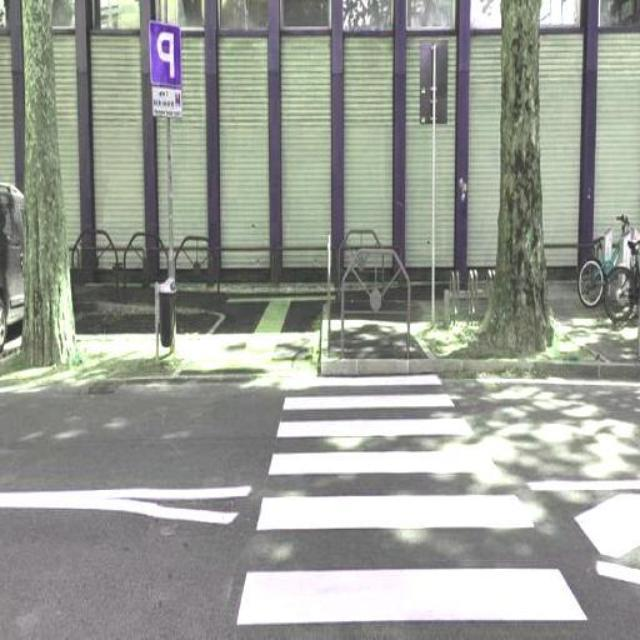sidewalk: (211, 373, 589, 627)
